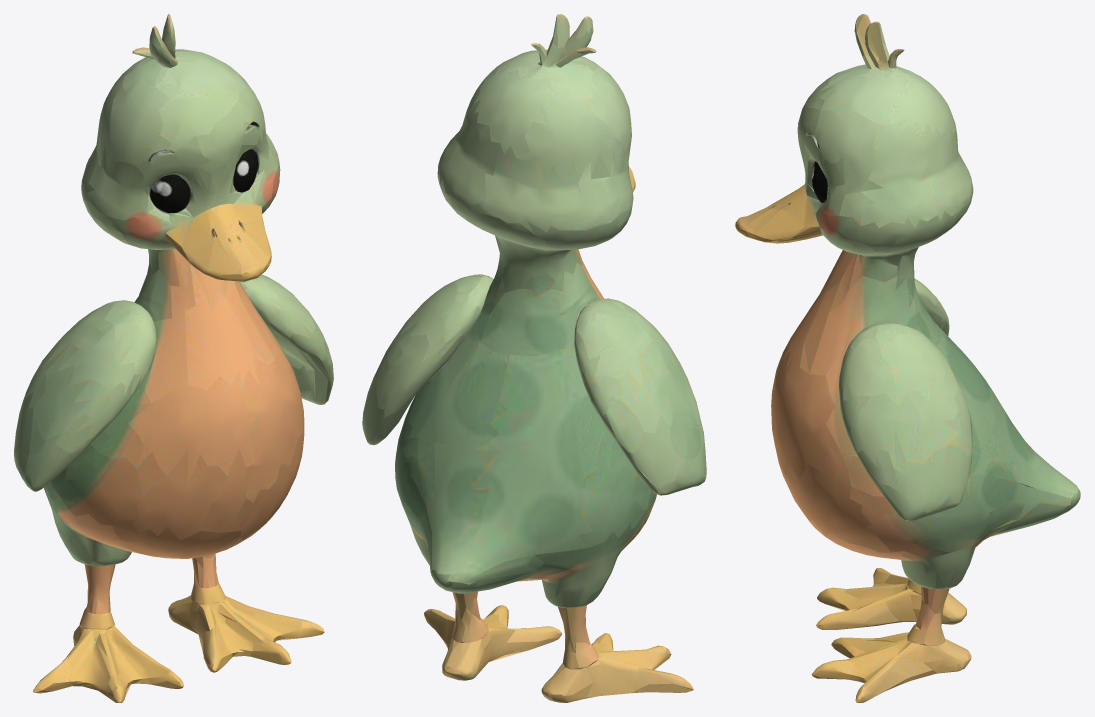
The model's file is duck.3f6eb24c.glb.
3 views of the same model, side by side, from view 1: azimuth 30°, elevation 25°; view 2: azimuth 150°, elevation 25°; view 3: azimuth 270°, elevation 25° (orthographic). The views are drawn at different scales.
Parts seen in each view (by area): view 1: output_unwrapped; view 2: output_unwrapped; view 3: output_unwrapped.
Boxes of the visible parts, bbox=[...] form: output_unwrapped: bbox=[14, 14, 333, 702]; output_unwrapped: bbox=[362, 14, 706, 702]; output_unwrapped: bbox=[735, 14, 1080, 702].
Size of the model in its own units: 0.9742 by 1.9 by 0.9659.
Materials: 1 (1 with a texture image).
